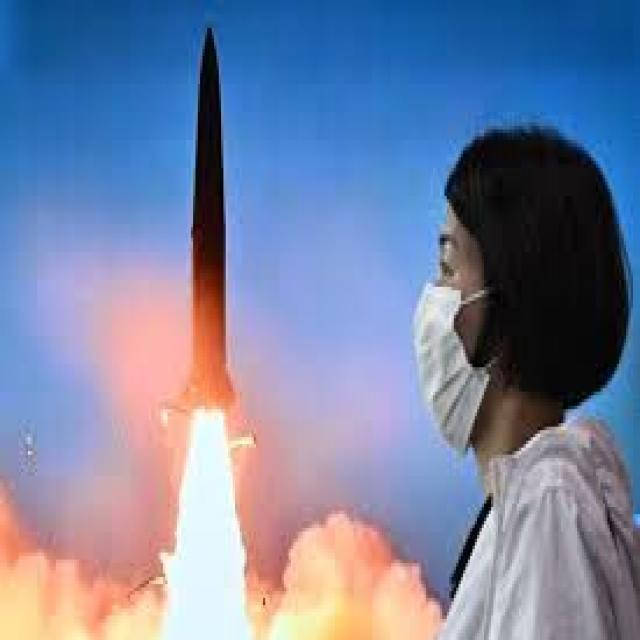Missile: (184, 9, 238, 425)
